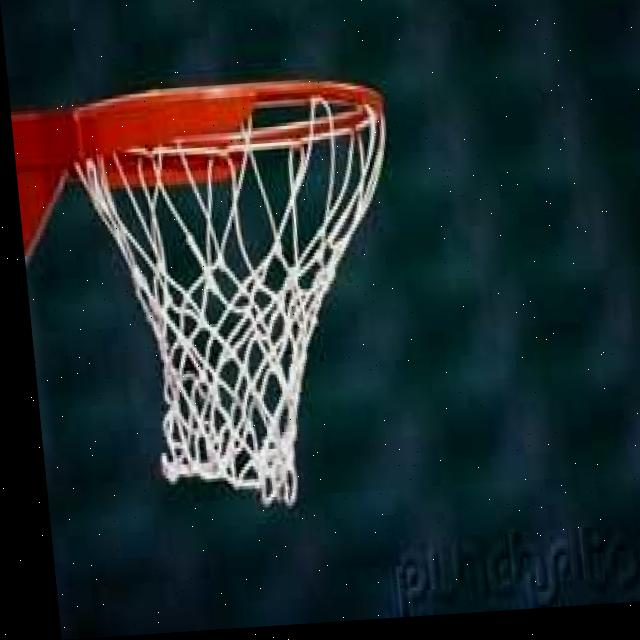hoop: (10, 69, 435, 554)
